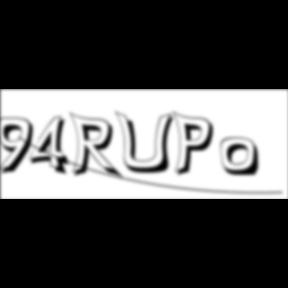4: (28, 115, 76, 179)
9: (0, 117, 40, 177)
P: (174, 110, 220, 180)
R: (70, 112, 126, 182)
U: (114, 110, 180, 176)
o: (220, 137, 262, 179)
